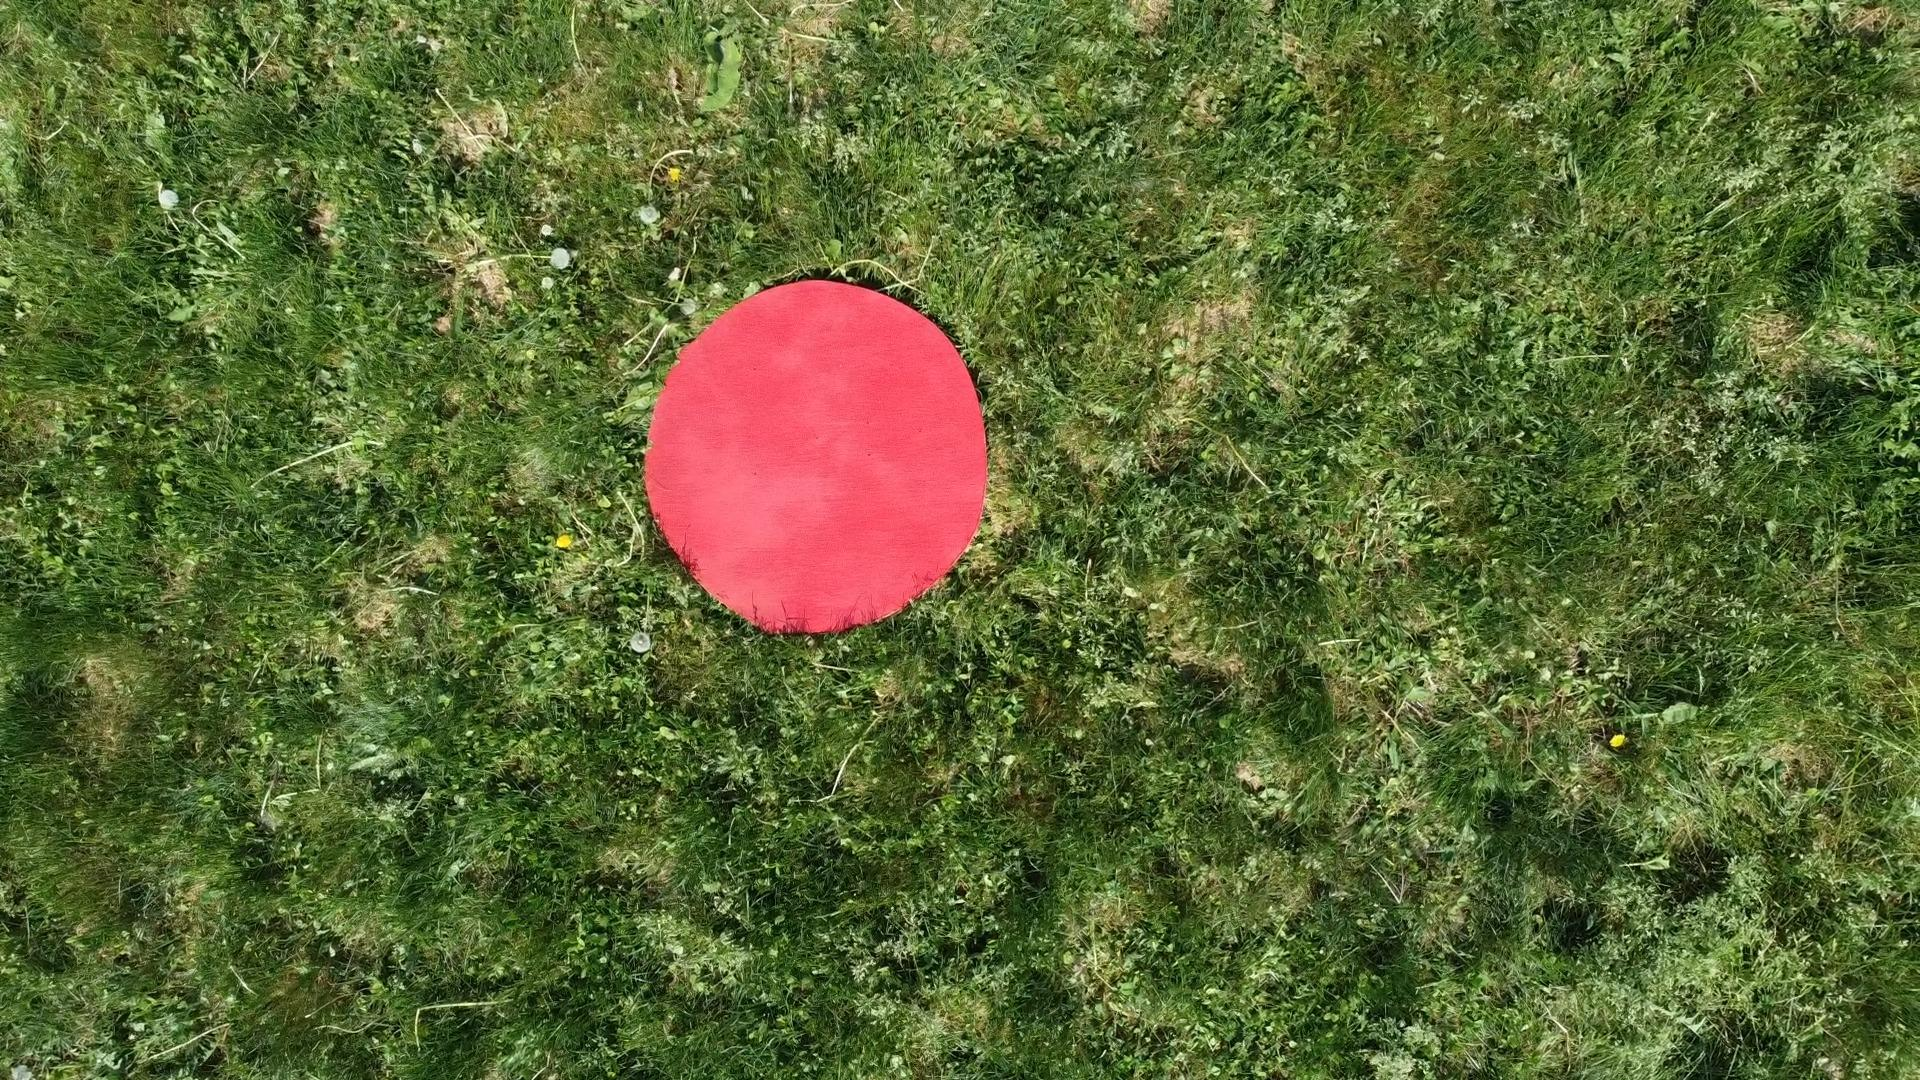Red: (622, 258, 996, 646)
